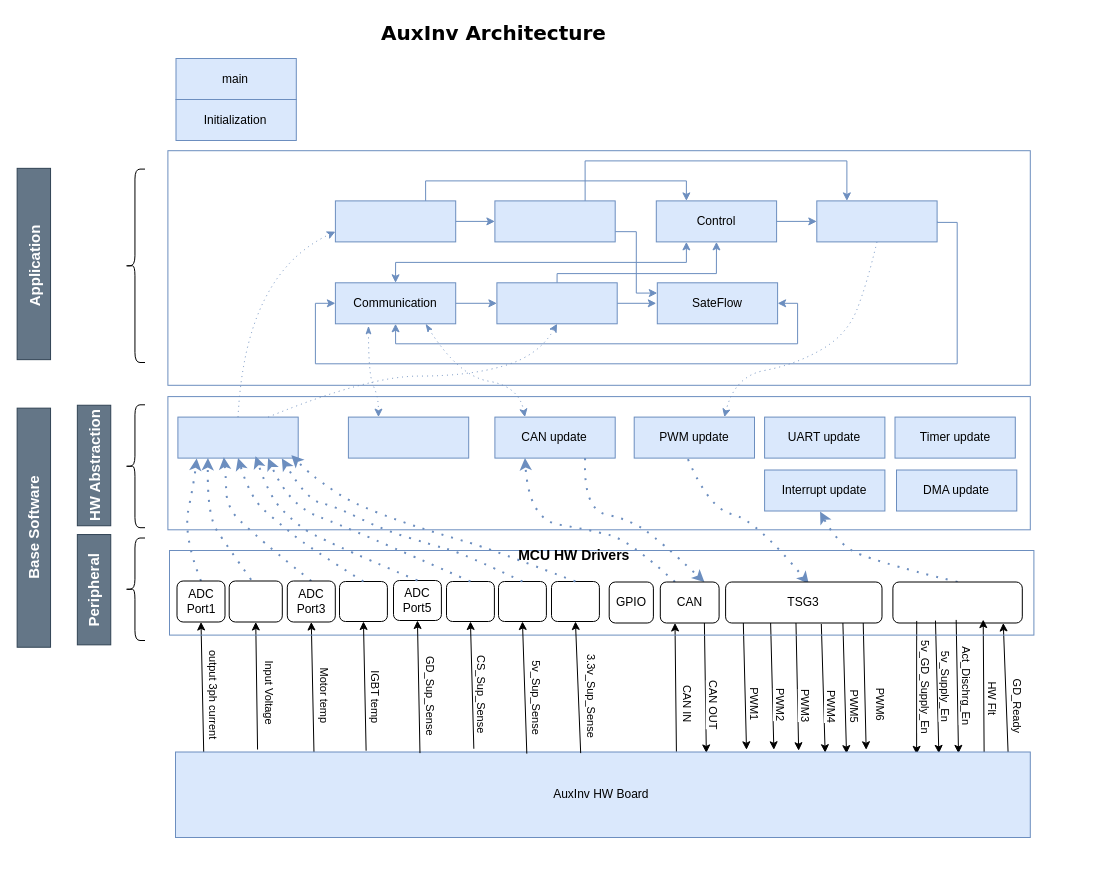
Some shapes in this 1108 by 870 pixel diagram are drawn without their labels. Here are the shapes that lost their labels. From the top down, the box of each, then its label:
(334, 200, 456, 242): ADC Read
(494, 200, 615, 242): Fault
(816, 200, 937, 242): PWM
(496, 282, 617, 324): Temperature Read
(177, 416, 298, 458): ADC update
(347, 416, 469, 458): I2C update
(228, 580, 282, 622): ADC Port2
(338, 580, 387, 622): ADC Port4
(446, 580, 494, 622): ADC Port6
(498, 580, 546, 622): ADC Port7
(550, 580, 599, 622): ADC Port8
(892, 581, 1022, 623): GPIO_ISR
